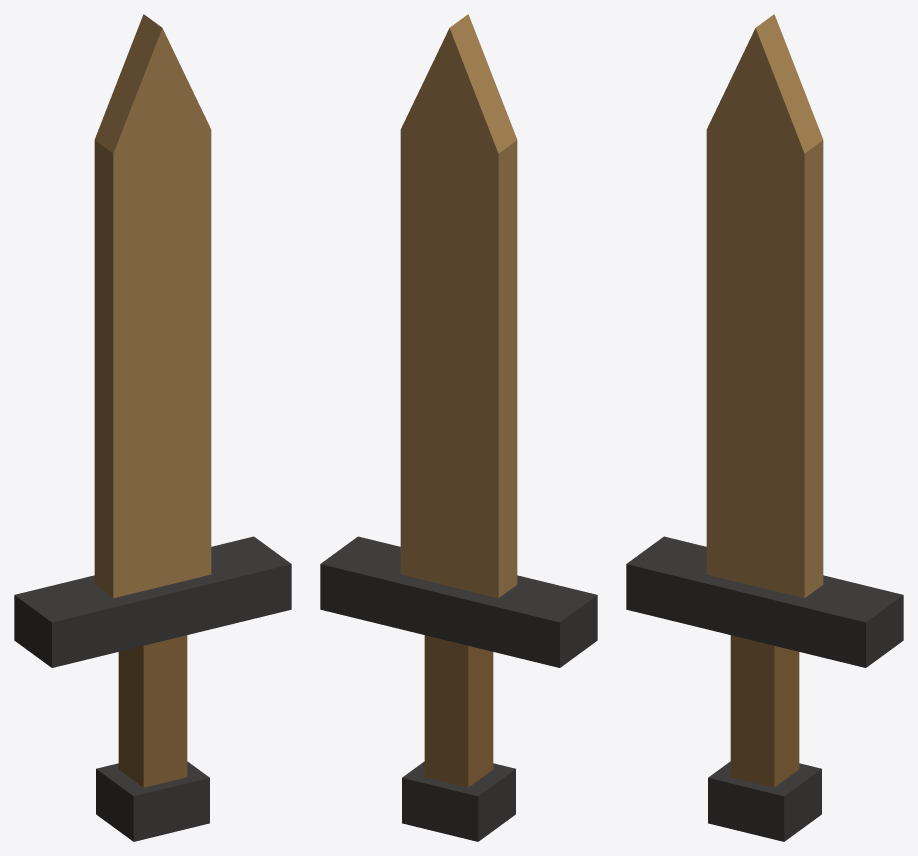
The model's file is sword_wood.fbx.
3 views of the same model, side by side, from view 1: azimuth 30°, elevation 25°; view 2: azimuth 150°, elevation 25°; view 3: azimuth 330°, elevation 25° (orthographic).
Parts seen in each view (by area): view 1: sword_wood; view 2: sword_wood; view 3: sword_wood.
Part boxes in pixels (x1=…): sword_wood: x1=14, y1=14, x2=291, y2=841; sword_wood: x1=320, y1=14, x2=597, y2=841; sword_wood: x1=626, y1=14, x2=903, y2=841.
Size of the model in its own units: 0.66 by 2.1 by 0.18.
